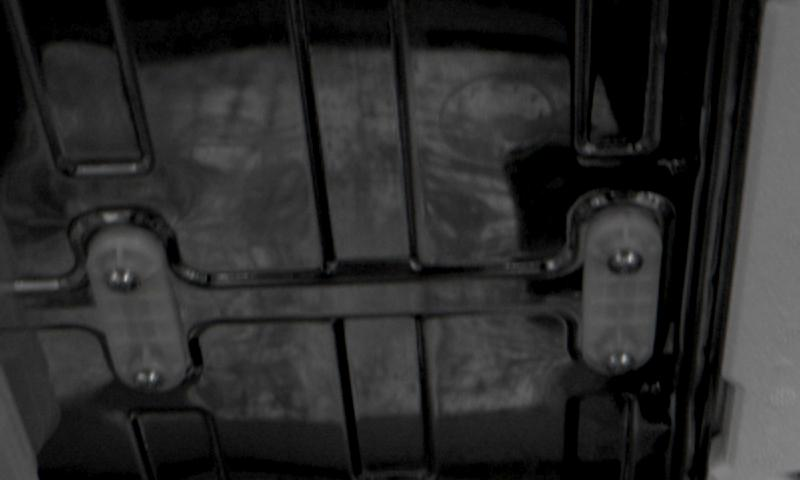vida-ok: (605, 244, 646, 287), (598, 343, 639, 383), (98, 263, 141, 301), (124, 362, 168, 397)
